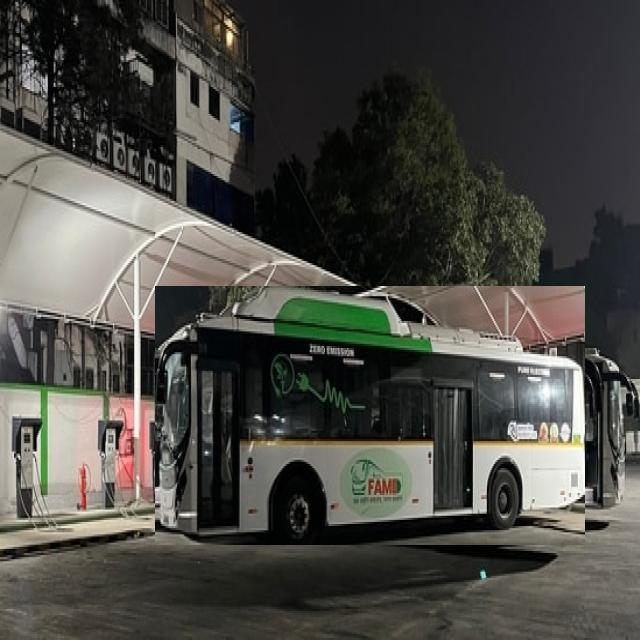bus: (155, 287, 585, 545)
